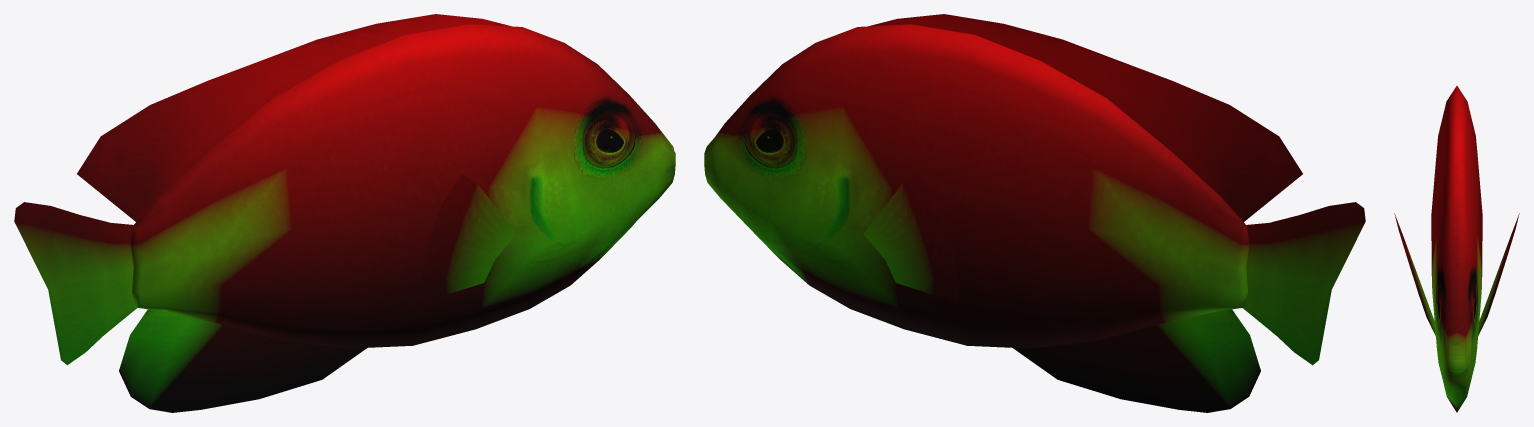
The model's file is lemonpeel_angelfish.glb.
3 renders of one model, left to right at view 1: azimuth 30°, elevation 25°; view 2: azimuth 150°, elevation 25°; view 3: azimuth 270°, elevation 25°, orthographic. The views are drawn at different scales.
Parts seen in each view (by area): view 1: LemonpeelAngelfish; view 2: LemonpeelAngelfish; view 3: LemonpeelAngelfish.
Boxes of the visible parts, left/top/right/bottom form: LemonpeelAngelfish: left=14, top=14, right=675, bottom=412; LemonpeelAngelfish: left=704, top=14, right=1365, bottom=412; LemonpeelAngelfish: left=1394, top=86, right=1519, bottom=412.
Size of the model in its own units: 1 by 0.5012 by 0.2036.
1 material, 1 textured.
